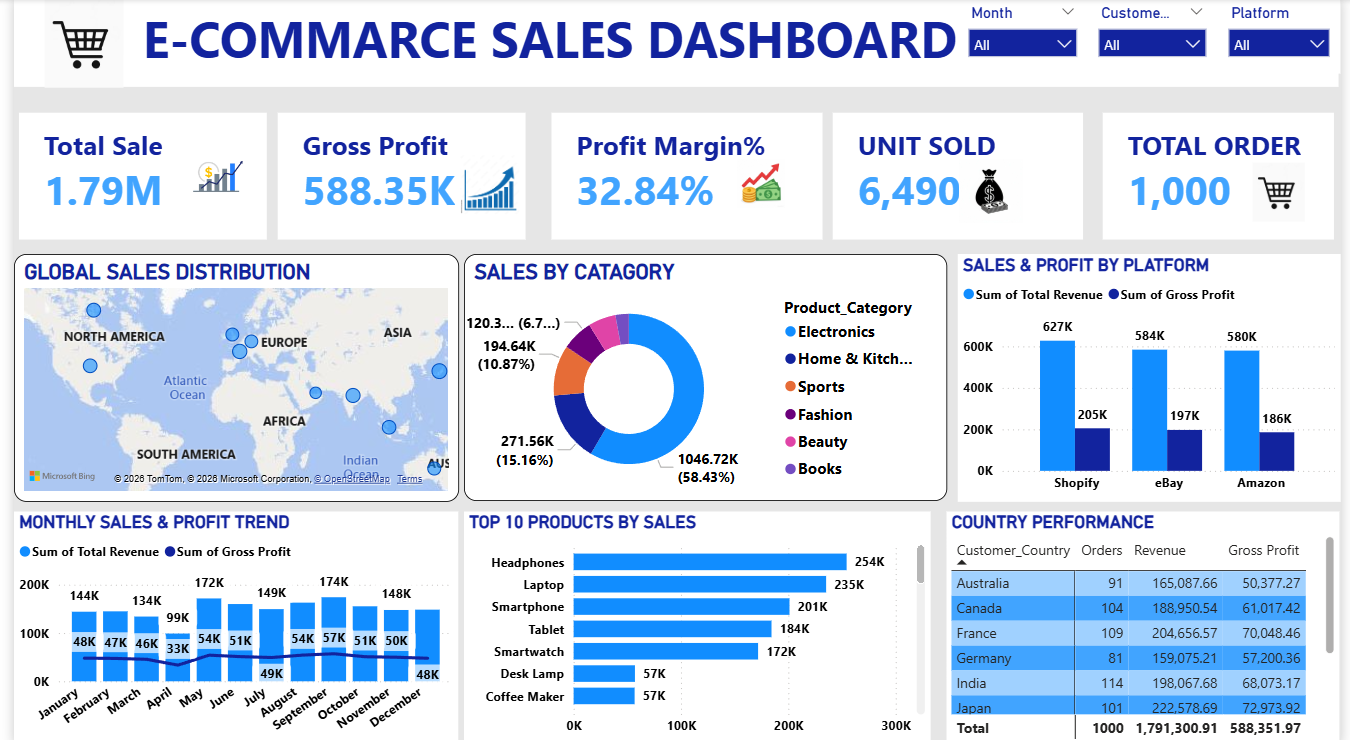

This screenshot's page, from the dashboard's own definition file:
{"tool":"powerbi","page":{"name":"Page 1","canvas":[1280,720],"ordinal":0},"visuals":[{"type":"textbox","box":[0,0,1278.3,85.1],"z":0},{"type":"image","box":[0,0,135.3,85.4],"z":1000},{"type":"cardVisual","title":"TOTAL SALES","fields":{"Data":["Table1.Total Sale"]},"box":[0,105.3,249.6,132.7],"z":2000},{"type":"cardVisual","title":"TOTAL SALES","fields":{"Data":["Table1.Gross Profit KPI"]},"box":[249.7,105,249.7,132.7],"z":3000},{"type":"cardVisual","title":"TOTAL SALES","fields":{"Data":["Table1.Profit Margin%"]},"box":[513.6,105.3,271.2,132.7],"z":4000},{"type":"cardVisual","title":"TOTAL SALES","fields":{"Data":["Table1.UNIT SOLD DISBLY"]},"box":[784.9,105.3,251,132.7],"z":5000},{"type":"cardVisual","title":"TOTAL SALES","fields":{"Data":["Table1.TOTAL ORDER DISBLY"]},"box":[1046,105.3,233.7,132.7],"z":6000},{"type":"image","box":[155.8,85.1,82.2,170.2],"z":8000},{"type":"map","title":"GLOBAL SALES DISTRIBUTION","fields":{"Category":["Table1.Customer_Country"],"Size":["Sum(Table1.Total Revenue)"]},"box":[0,246.1,429.5,238.9],"z":9000},{"type":"donutChart","title":"SALES BY CATAGORY","fields":{"Y":["Sum(Table1.Total Revenue)"],"Category":["Table1.Product_Category"]},"box":[434.3,246.7,466,238.1],"z":10000},{"type":"clusteredColumnChart","title":"SALES & PROFIT BY PLATFORM","fields":{"Category":["Table1.Platform"],"Y":["Sum(Table1.Total Revenue)","Sum(Table1.Gross Profit)"]},"box":[910.4,246.7,369.3,239.5],"z":11000},{"type":"lineStackedColumnComboChart","title":"MONTHLY SALES & PROFIT TREND","fields":{"Y":["Sum(Table1.Total Revenue)"],"Category":["Table1.Order_Date.Variation.Date Hierarchy.Month"],"Y2":["Sum(Table1.Gross Profit)"]},"box":[0,494.9,428.5,225.1],"z":12000},{"type":"barChart","title":"TOP 10 PRODUCTS BY SALES","fields":{"Category":["Table1.Product_Name"],"Y":["Sum(Table1.Total Revenue)"]},"box":[434.3,494.9,450.1,225.1],"z":13000},{"type":"pivotTable","title":"COUNTRY PERFORMANCE","fields":{"Rows":["Table1.Customer_Country"],"Values":["Table1.Total Orders","Sum(Table1.Total Revenue)","Sum(Table1.Gross Profit)"]},"box":[900.3,494.9,379.4,225.1],"z":14000},{"type":"slicer","fields":{"Values":["Table1.Order_Date.Variation.Date Hierarchy.Month"]},"box":[910.4,0,125.5,72.1],"z":15000},{"type":"slicer","fields":{"Values":["Table1.Customer_Country"]},"box":[1035.9,0,124.1,72.1],"z":16000},{"type":"slicer","fields":{"Values":["Table1.Platform"]},"box":[1161.4,0,118.3,72.1],"z":17000},{"type":"image","box":[681.6,154.4,78.4,47.1],"z":17001},{"type":"image","box":[366.8,150.8,184.6,56.7],"z":17002},{"type":"image","box":[912.1,154.4,61.5,61.5],"z":17003},{"type":"image","box":[1176.3,158,89.3,56.7],"z":17004}]}

Visuals, with their boxes in screenshot pixels (x1, y1, x2, y2), scaled from the page's 1280x720 canvas onto the 1350x740 screenshot:
textbox: 0 0 1348 87
image: 0 0 143 88
"TOTAL SALES" cardVisual: 0 108 263 245
"TOTAL SALES" cardVisual: 263 108 527 244
"TOTAL SALES" cardVisual: 542 108 828 245
"TOTAL SALES" cardVisual: 828 108 1093 245
"TOTAL SALES" cardVisual: 1103 108 1349 245
image: 164 87 251 262
"GLOBAL SALES DISTRIBUTION" map: 0 253 453 498
"SALES BY CATAGORY" donutChart: 458 254 950 498
"SALES & PROFIT BY PLATFORM" clusteredColumnChart: 960 254 1349 500
"MONTHLY SALES & PROFIT TREND" lineStackedColumnComboChart: 0 509 452 739
"TOP 10 PRODUCTS BY SALES" barChart: 458 509 933 739
"COUNTRY PERFORMANCE" pivotTable: 950 509 1349 739
slicer - Table1.Order_Date.Variation.Date Hierarchy.Month: 960 0 1093 74
slicer - Table1.Customer_Country: 1093 0 1223 74
slicer - Table1.Platform: 1225 0 1349 74
image: 719 159 802 207
image: 387 155 582 213
image: 962 159 1027 222
image: 1241 162 1335 221
